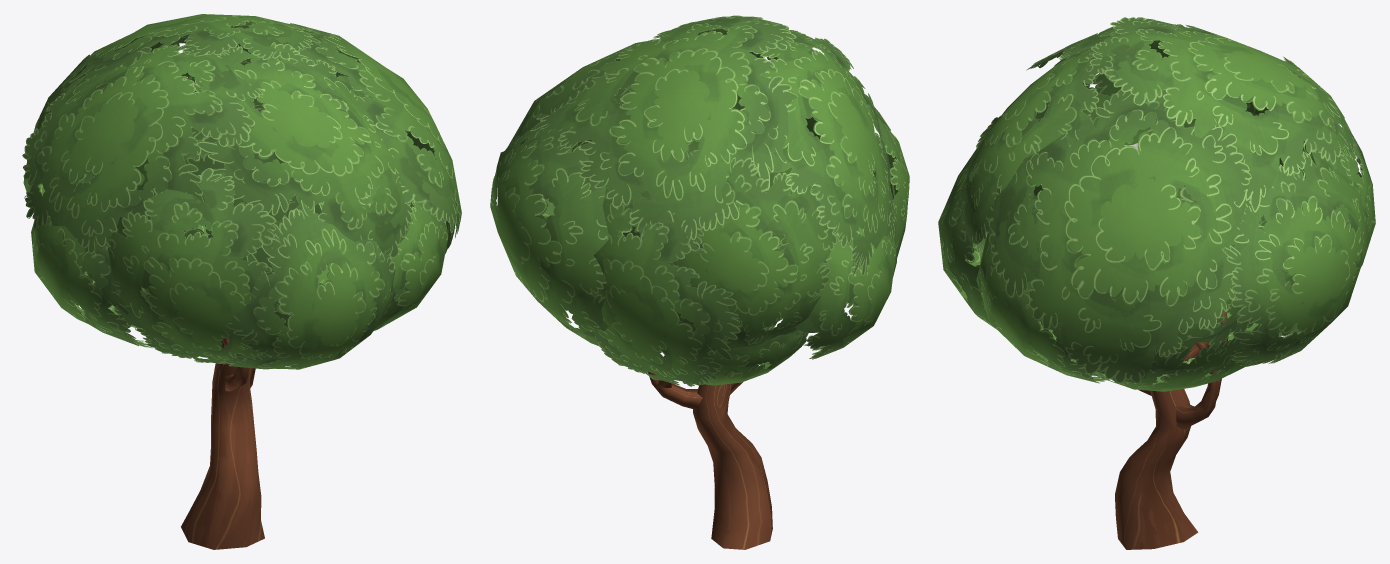
File: appletree_v2_fix.fbx
3 renders of one model, left to right at view 1: azimuth 30°, elevation 25°; view 2: azimuth 150°, elevation 25°; view 3: azimuth 270°, elevation 25°, orthographic.
Parts seen in each view (by area): view 1: polySurface1, polySurface2; view 2: polySurface1, polySurface2; view 3: polySurface1, polySurface2.
Part boxes in pixels (box(x1,y1,x2,y2)): polySurface1: box(22, 14, 461, 369); polySurface2: box(181, 338, 264, 549); polySurface1: box(490, 15, 909, 386); polySurface2: box(648, 327, 774, 549); polySurface1: box(938, 17, 1375, 391); polySurface2: box(1115, 312, 1228, 549).
Size of the model in its own units: 13.63 by 17.39 by 13.67.
